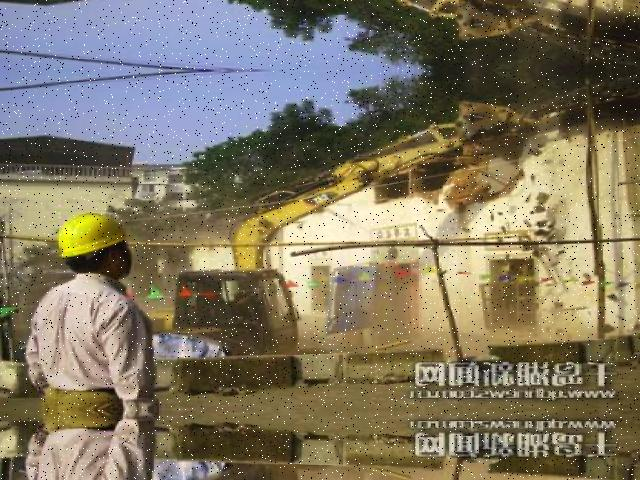Helmet: (53, 205, 136, 263)
